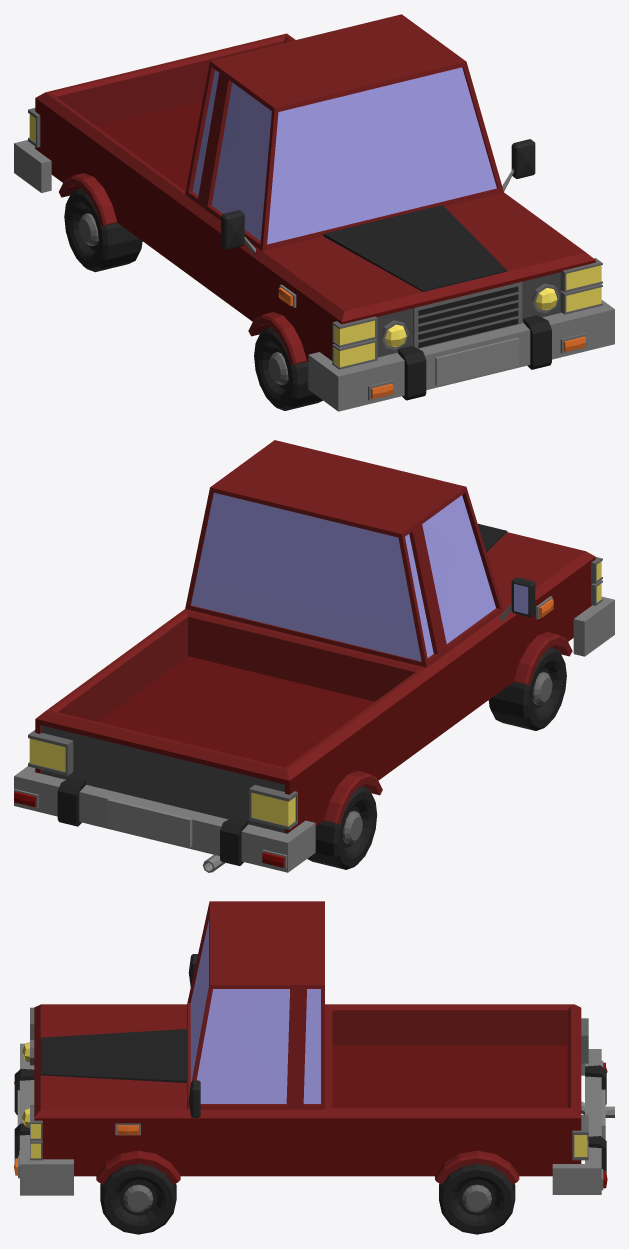
File: car.glb
3 renders of one model, top to bottom at view 1: azimuth 30°, elevation 25°; view 2: azimuth 150°, elevation 25°; view 3: azimuth 270°, elevation 25°, orthographic. The views are drawn at different scales.
Visible parts, largest first — view 1: Cube; view 2: Cube; view 3: Cube.
Boxes of the visible parts, x1,y1,x2,y2 form: Cube: (14, 14, 614, 411); Cube: (14, 440, 614, 872); Cube: (14, 901, 614, 1234).
Size of the model in its own units: 5.54 by 4.45 by 10.38.
Materials: 5 (5 with a texture image).
